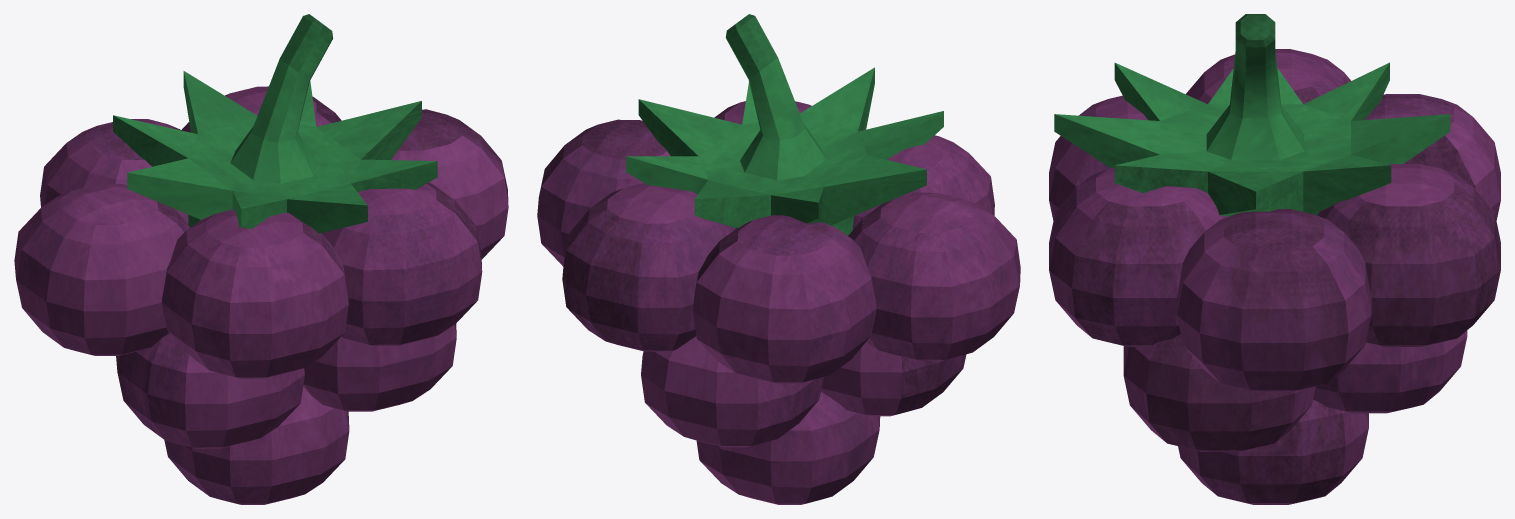
File: Grapes.fbx
3 renders of one model, left to right at view 1: azimuth 30°, elevation 25°; view 2: azimuth 150°, elevation 25°; view 3: azimuth 270°, elevation 25°, orthographic. The views are drawn at different scales.
Parts seen in each view (by area): view 1: Palo6, Raim2, Raim4, Raim3, Raim8, Raim9, Raim7, Raim5, Raim, Raim1; view 2: Palo6, Raim, Raim4, Raim1, Raim6, Raim9, Raim5, Raim8, Raim2, Raim3; view 3: Palo6, Raim5, Raim1, Raim3, Raim7, Raim9, Raim6, Raim, Raim4, Raim2.
Boxes of the visible parts, box(x1,y1,x2,y2) form: Palo6: box(113, 14, 437, 233); Raim2: box(161, 209, 348, 378); Raim4: box(14, 184, 190, 355); Raim3: box(322, 182, 482, 345); Raim8: box(116, 333, 304, 448); Raim9: box(164, 387, 349, 504); Raim7: box(303, 324, 456, 411); Raim5: box(391, 109, 508, 259); Raim: box(40, 119, 188, 224); Raim1: box(181, 86, 341, 132); Palo6: box(626, 14, 943, 235); Raim: box(692, 215, 876, 383); Raim4: box(848, 192, 1020, 360); Raim1: box(562, 183, 735, 351); Raim6: box(641, 336, 823, 447); Raim9: box(696, 392, 880, 504); Raim5: box(537, 119, 670, 266); Raim8: box(821, 342, 966, 416); Raim2: box(848, 135, 994, 235); Raim3: box(714, 101, 811, 124); Palo6: box(1054, 14, 1450, 216); Raim5: box(1176, 209, 1371, 391); Raim1: box(1317, 164, 1500, 346); Raim3: box(1049, 167, 1227, 346); Raim7: box(1123, 334, 1315, 451); Raim9: box(1178, 399, 1368, 504); Raim6: box(1313, 330, 1467, 413); Raim: box(1365, 94, 1500, 220); Raim4: box(1186, 49, 1350, 104); Raim2: box(1049, 95, 1147, 220).
Bounding box in the file's own units: 104 × 101 × 82.4.
Materials: 2 (2 with a texture image).
